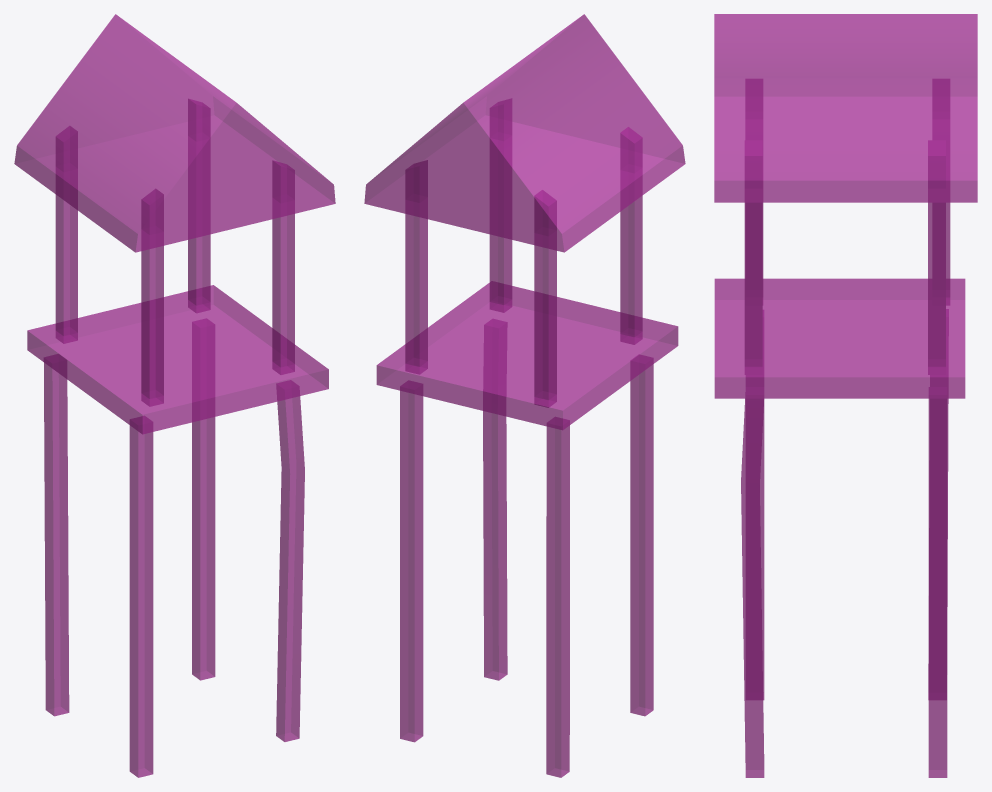
The model's file is SM_Bld_Tower_07_Collision.fbx.
3 views of the same model, side by side, from view 1: azimuth 30°, elevation 25°; view 2: azimuth 150°, elevation 25°; view 3: azimuth 270°, elevation 25° (orthographic). The views are drawn at different scales.
Visible parts, largest first — view 1: SM_Bld_Tower_07_Collision; view 2: SM_Bld_Tower_07_Collision; view 3: SM_Bld_Tower_07_Collision.
Part boxes in pixels (box(x1,y1,x2,y2)): SM_Bld_Tower_07_Collision: box(14, 14, 335, 777); SM_Bld_Tower_07_Collision: box(364, 14, 685, 777); SM_Bld_Tower_07_Collision: box(714, 14, 977, 777).
Bounding box in the file's own units: 245 × 777 × 256.
